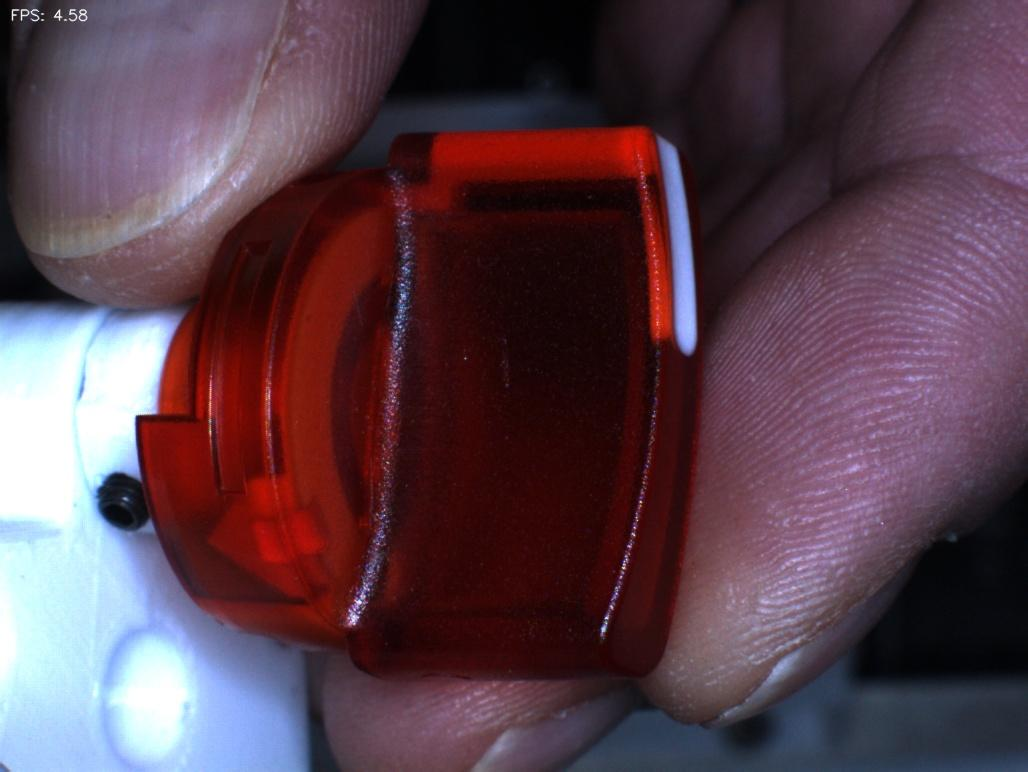Givrage: (470, 295, 553, 419)
